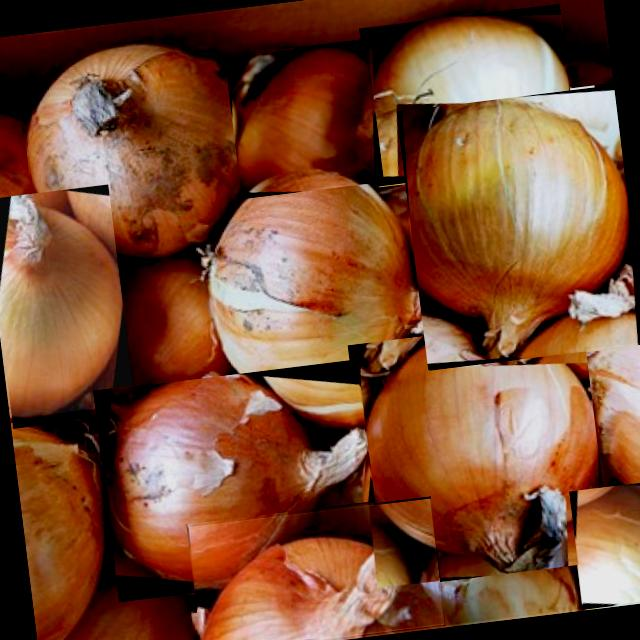healthy: (407, 100, 629, 360), (361, 329, 596, 573), (406, 103, 630, 357), (105, 375, 367, 583), (201, 500, 443, 640), (369, 15, 570, 167), (0, 194, 122, 418), (233, 47, 372, 192), (575, 485, 640, 604)
